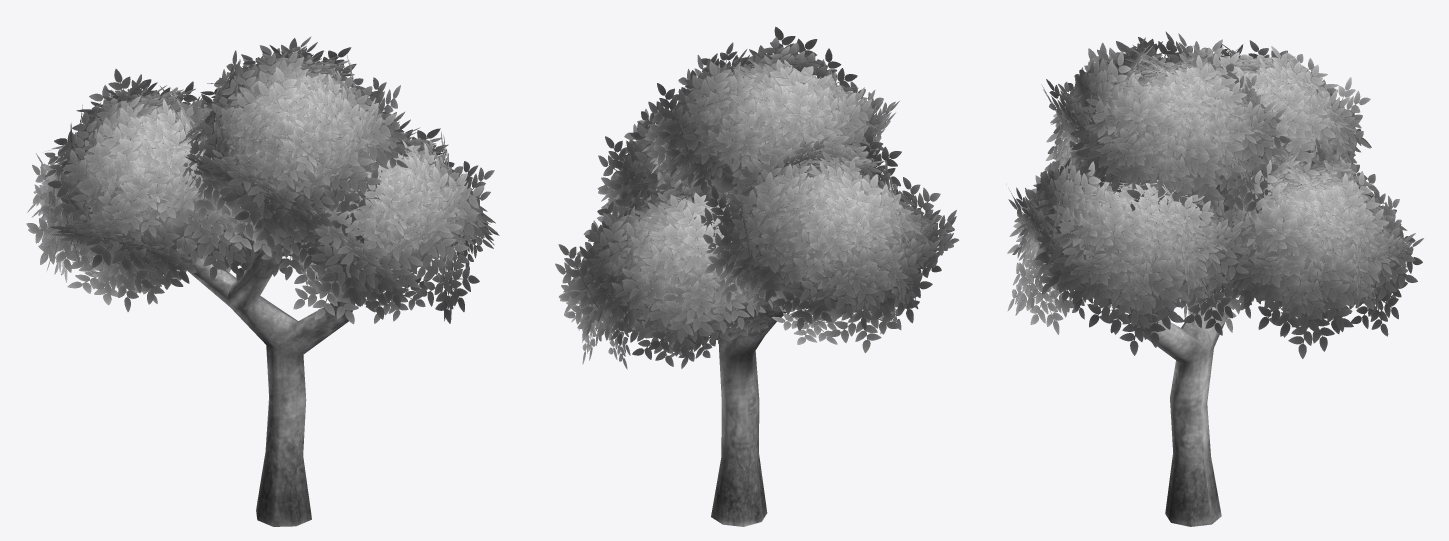
The model's file is Tree03.fbx.
3 renders of one model, left to right at view 1: azimuth 30°, elevation 25°; view 2: azimuth 150°, elevation 25°; view 3: azimuth 270°, elevation 25°, orthographic. The views are drawn at different scales.
Parts seen in each view (by area): view 1: Tree03_LOD0; view 2: Tree03_LOD0; view 3: Tree03_LOD0.
Part boxes in pixels (x1,y1,x2,y2): Tree03_LOD0: (26,36,499,526); Tree03_LOD0: (555,26,959,526); Tree03_LOD0: (1007,31,1423,526).
Size of what is drawn, in the model's own units: 643 by 707 by 594.
